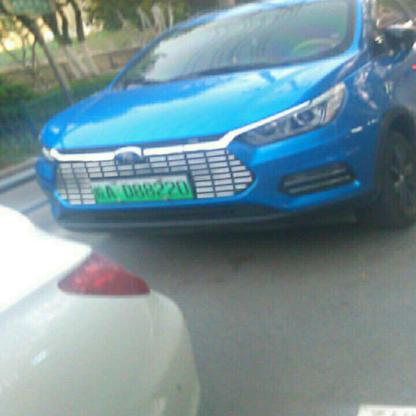lp: (90, 174, 194, 204)
